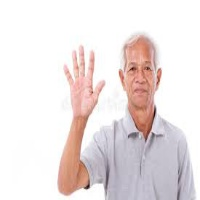ring: (69, 48, 79, 78)
